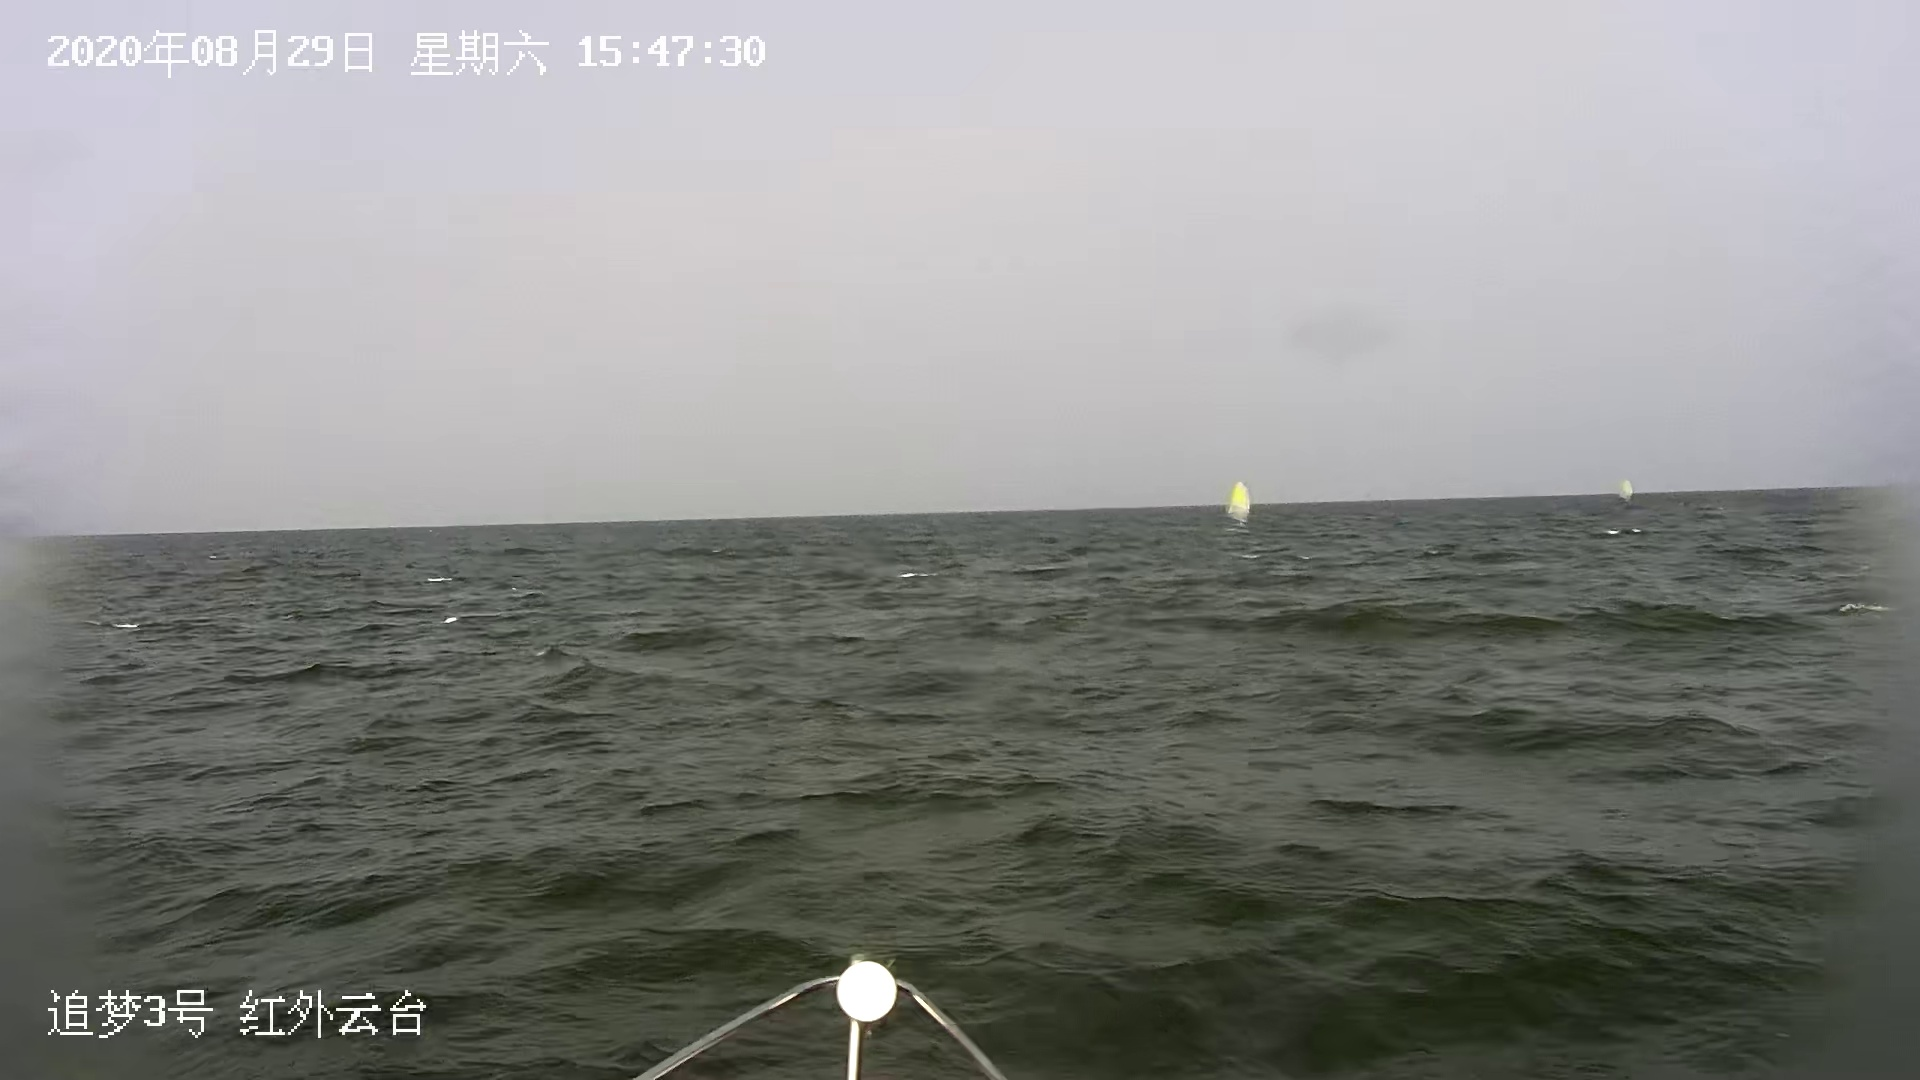barrier: (1226, 483, 1258, 535), (1617, 476, 1638, 506)
